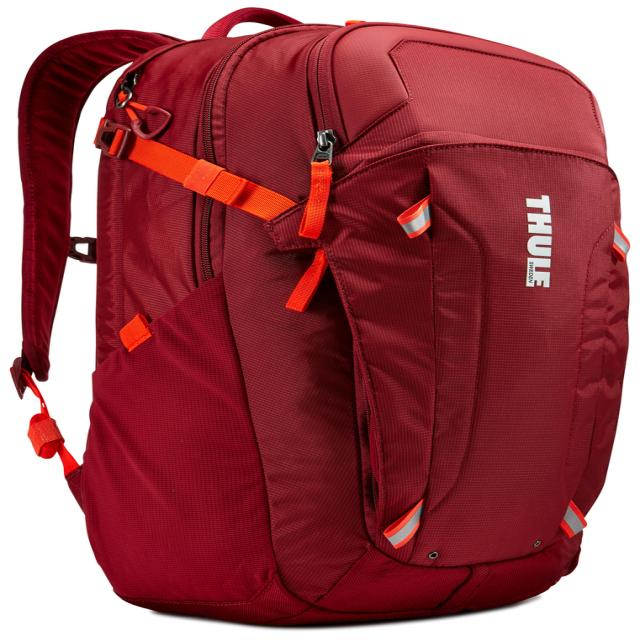backpack: (9, 8, 634, 624)
